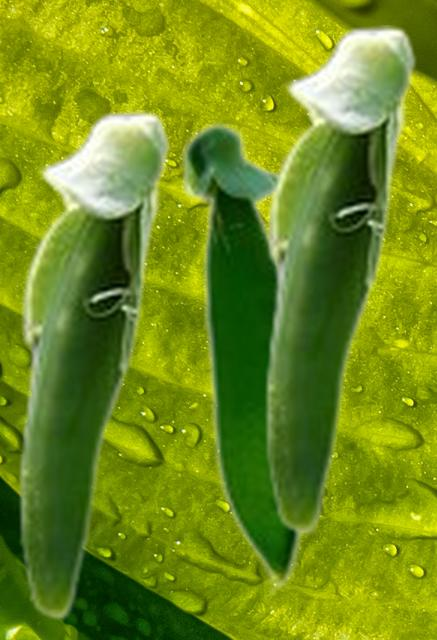pea: (17, 110, 171, 620), (263, 25, 417, 535), (178, 119, 306, 597)
